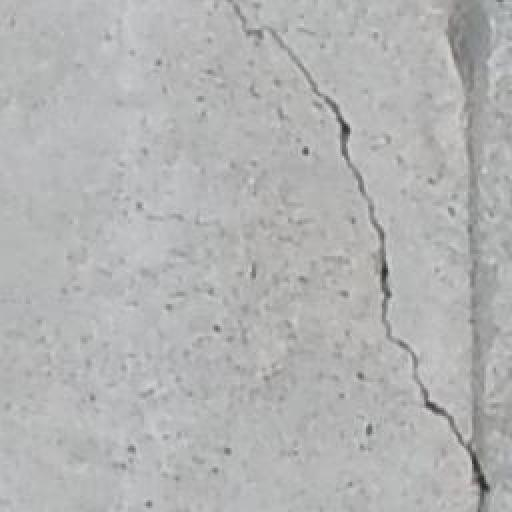spalling: (218, 8, 501, 503)
